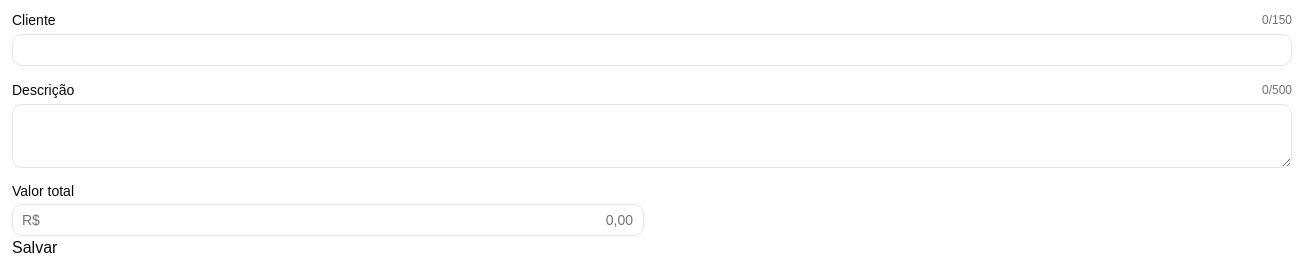
it: OrderForm › limita o tamanho dos campos de texto e mostra o contador de caracteres
This screenshot has width=1304, height=270.
Check: the text "0/150" is shown, box left=1262, top=12, right=1292, bottom=28
Type "Maria" into the field labelled "Cliente" at coordinates (652, 50), box left=12, top=34, right=1292, bottom=66
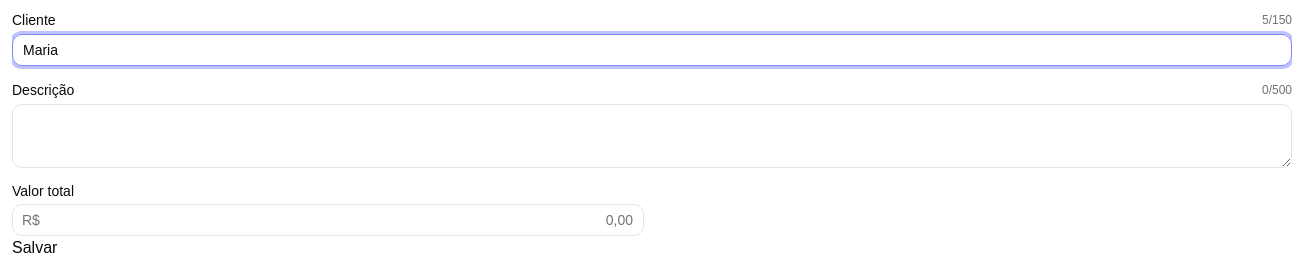
Check: the text "0/500" is shown, box left=1262, top=82, right=1292, bottom=98
Check: the text "5/150" is shown, box left=1262, top=12, right=1292, bottom=28
